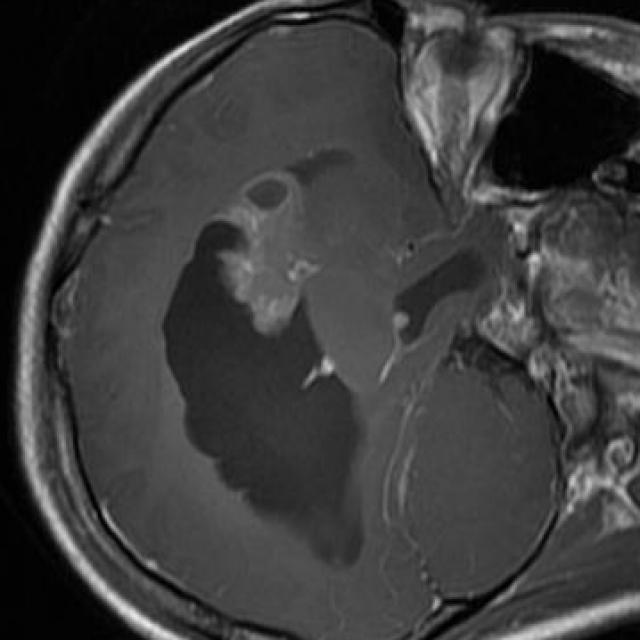glioma: (162, 148, 364, 569)
